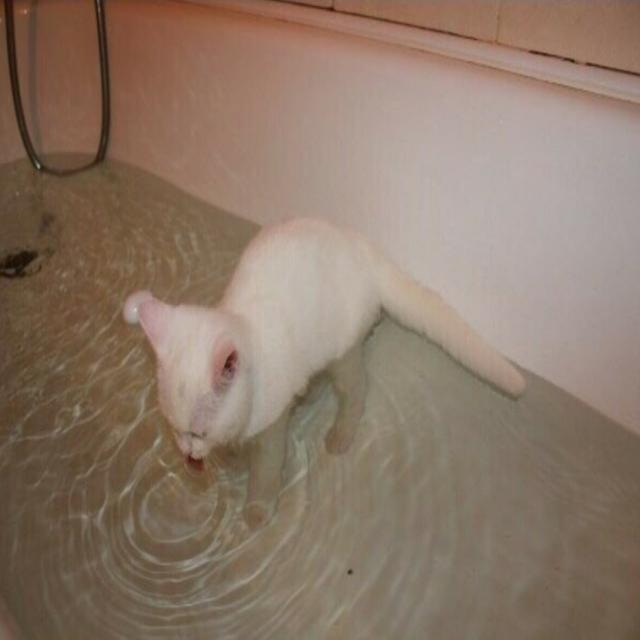cat: (132, 187, 534, 534)
